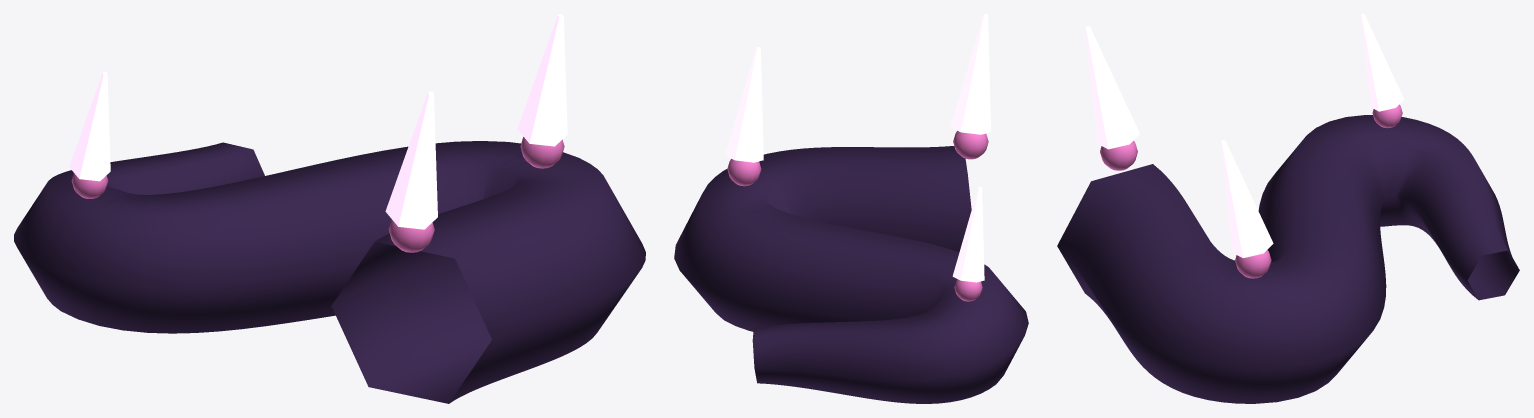
File: SM_Keeper_Apep_Body_F17.fbx
3 views of the same model, side by side, from view 1: azimuth 30°, elevation 25°; view 2: azimuth 150°, elevation 25°; view 3: azimuth 270°, elevation 25° (orthographic). The views are drawn at different scales.
Parts seen in each view (by area): view 1: SM_Keeper_Apep_Body_F17; view 2: SM_Keeper_Apep_Body_F17; view 3: SM_Keeper_Apep_Body_F17.
Part boxes in pixels (x1=…): SM_Keeper_Apep_Body_F17: x1=14, y1=14, x2=645, y2=403; SM_Keeper_Apep_Body_F17: x1=674, y1=14, x2=1028, y2=403; SM_Keeper_Apep_Body_F17: x1=1057, y1=14, x2=1519, y2=403.
Bounding box in the file's own units: 6.81 × 4.37 × 6.55.
